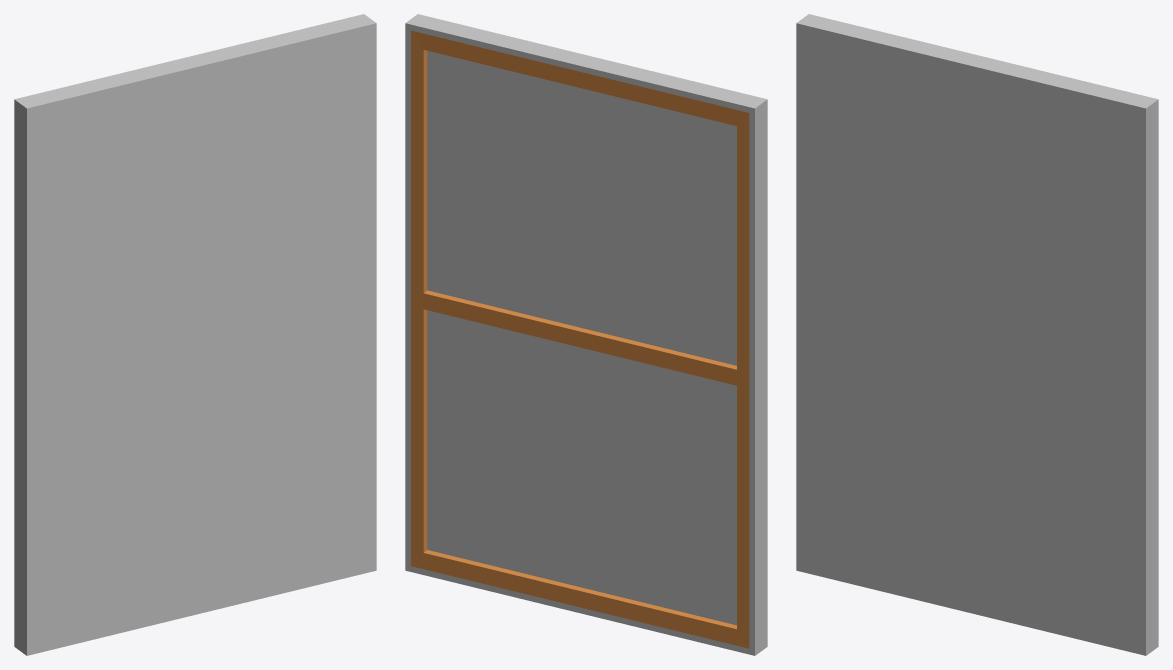
Rendered from canvas.fbx.
3 views of the same model, side by side, from view 1: azimuth 30°, elevation 25°; view 2: azimuth 150°, elevation 25°; view 3: azimuth 330°, elevation 25° (orthographic).
Parts seen in each view (by area): view 1: Canvas Blank; view 2: Canvas Blank; view 3: Canvas Blank.
Boxes of the visible parts, x1,y1,x2,y2 form: Canvas Blank: (14, 14, 376, 655); Canvas Blank: (405, 14, 767, 655); Canvas Blank: (796, 14, 1158, 655).
Bounding box in the file's own units: 62.49 × 3.9 × 93.45.
